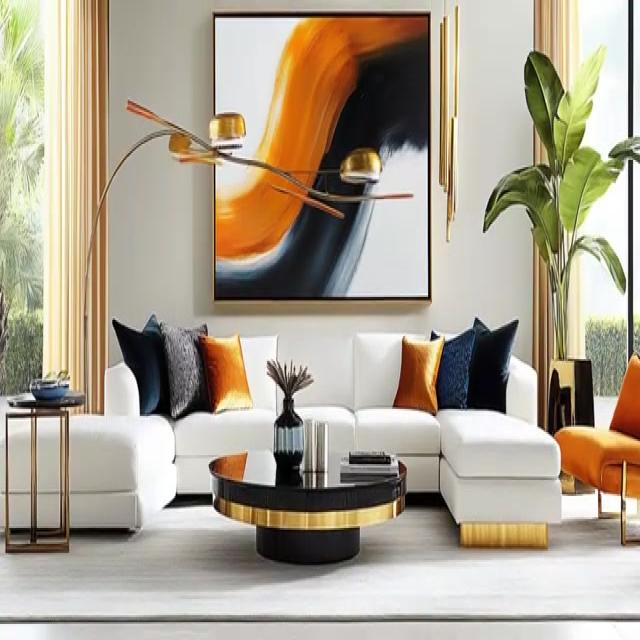obstacle: (107, 314, 558, 550), (208, 448, 407, 564), (553, 350, 639, 544), (4, 389, 85, 553)
